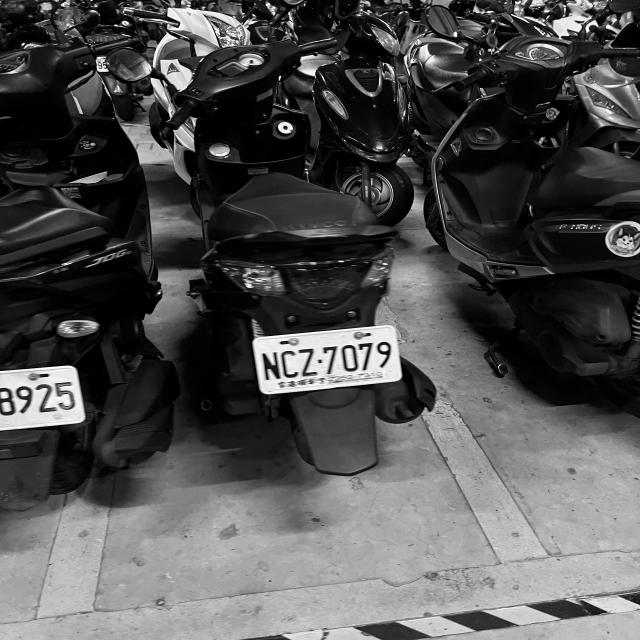-: (317, 358, 323, 363)
0: (339, 342, 360, 373)
2: (34, 379, 59, 415)
5: (55, 380, 78, 410)
7: (357, 340, 376, 371), (321, 345, 341, 374)
9: (12, 384, 34, 414), (375, 339, 394, 369)
C: (279, 349, 300, 379)
N: (261, 350, 282, 381)
Z: (296, 347, 321, 377)
plate: (254, 329, 400, 390)
